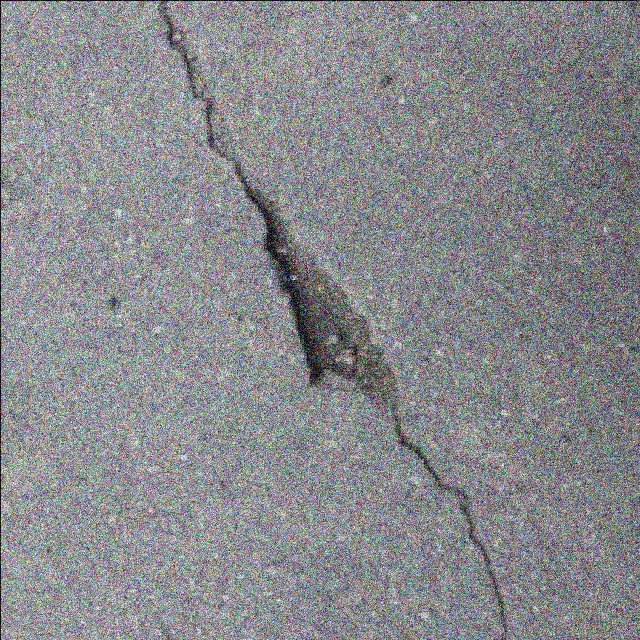SurfaceCrack: (128, 0, 526, 638)
